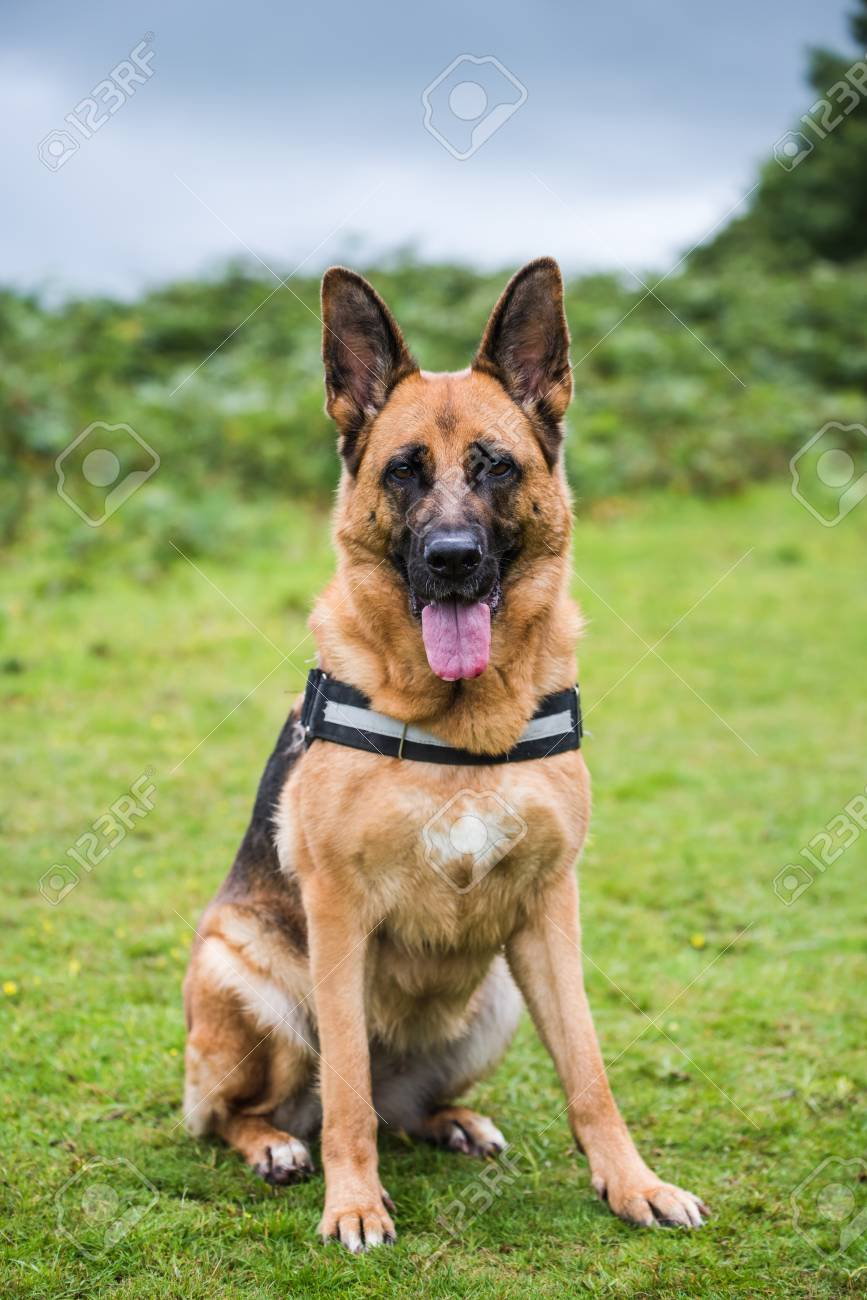dog: (171, 253, 733, 1240)
